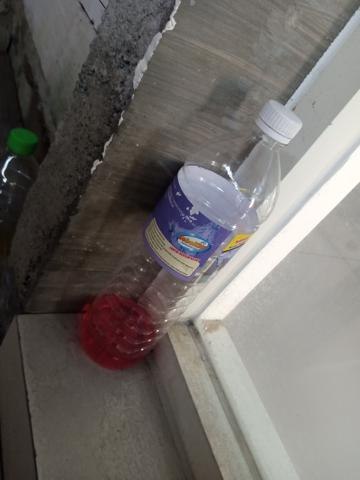botol_kaca: (65, 87, 309, 381)
